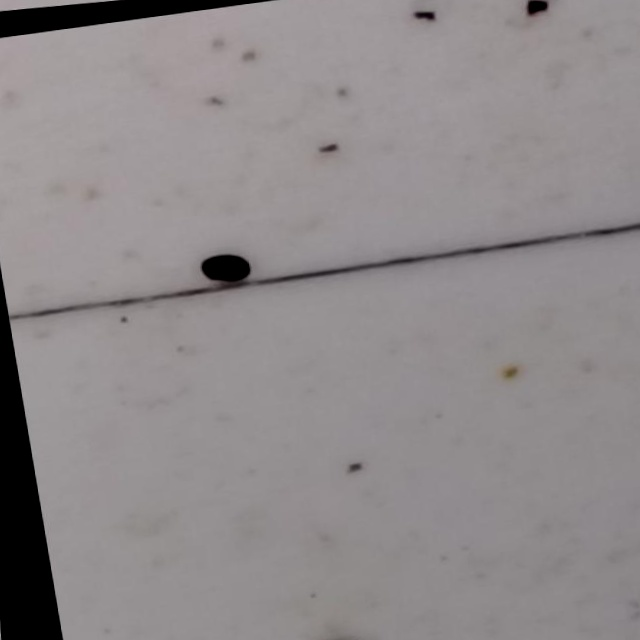varroa: (191, 247, 251, 290)
